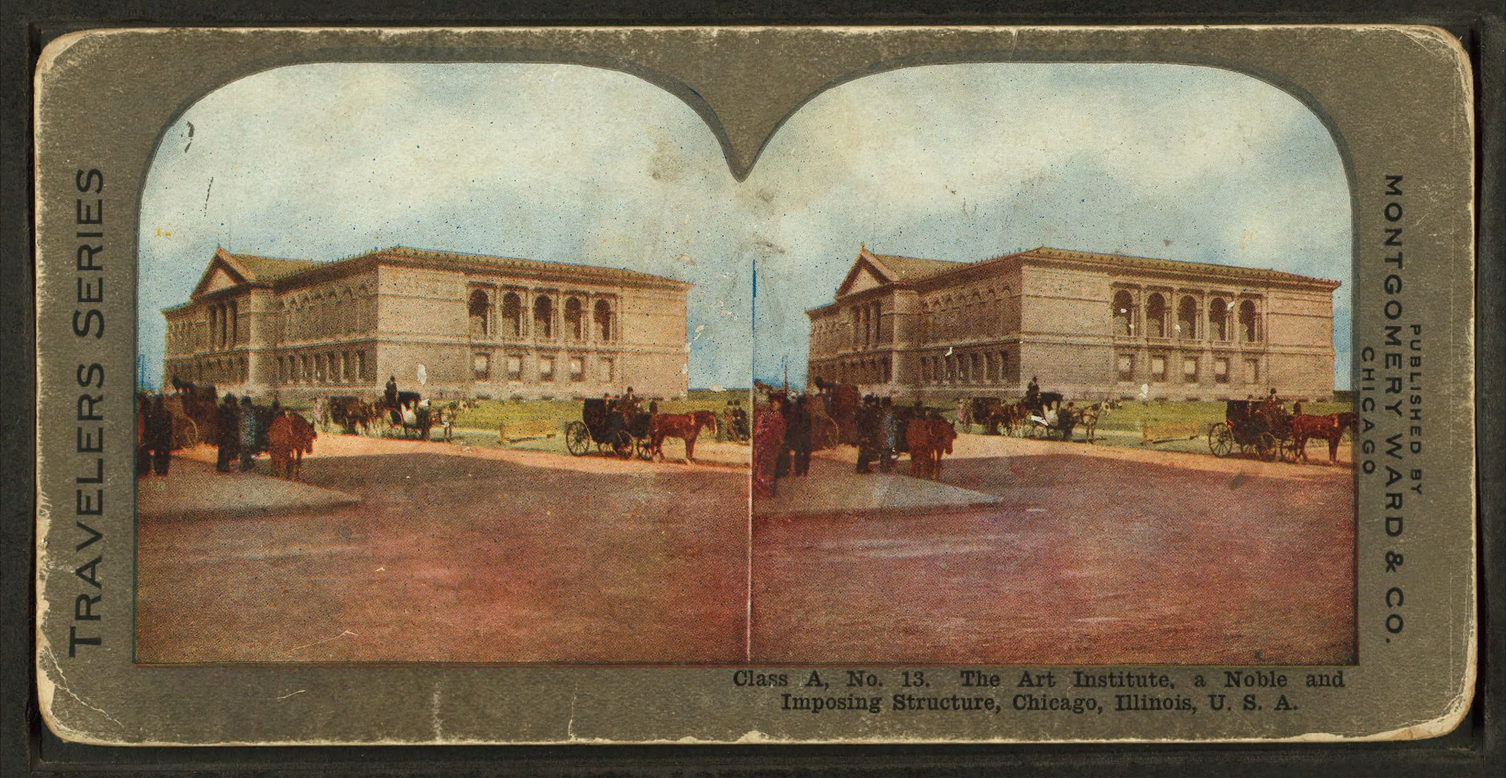half_image: (139, 63, 744, 665), (753, 63, 1353, 660)
